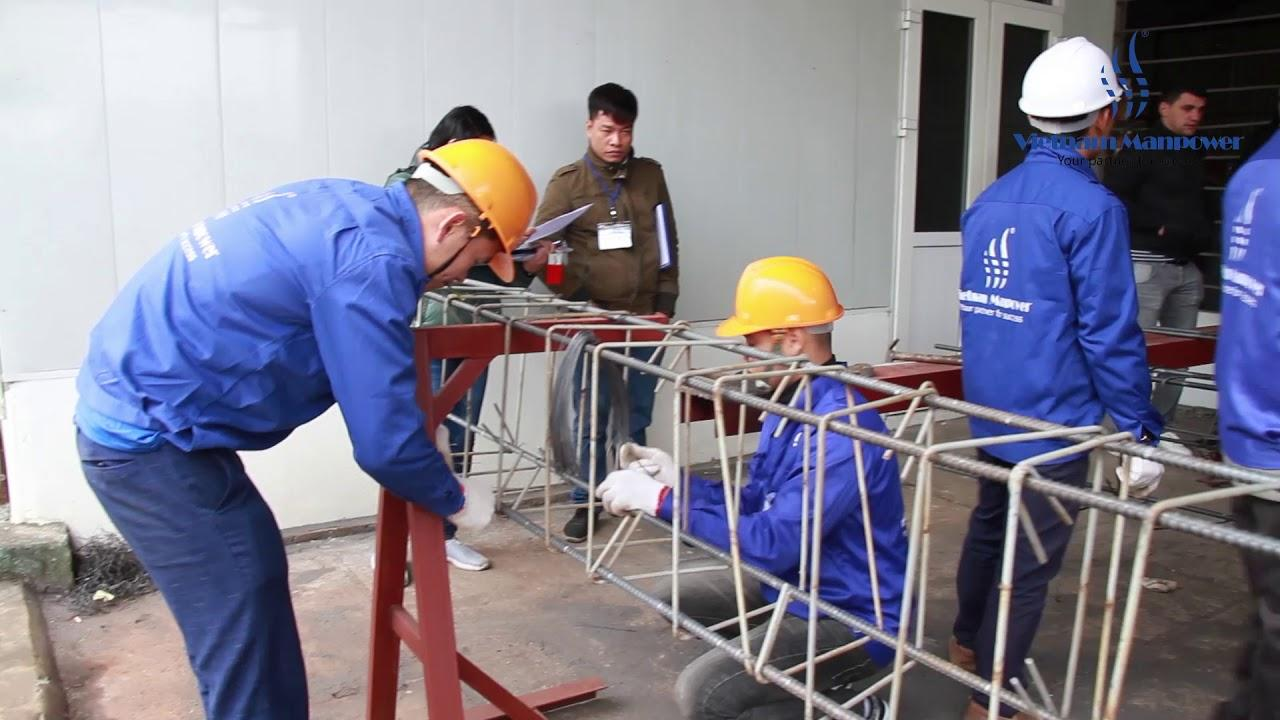helmet: (417, 138, 544, 225), (722, 260, 846, 338), (1017, 37, 1121, 118)
